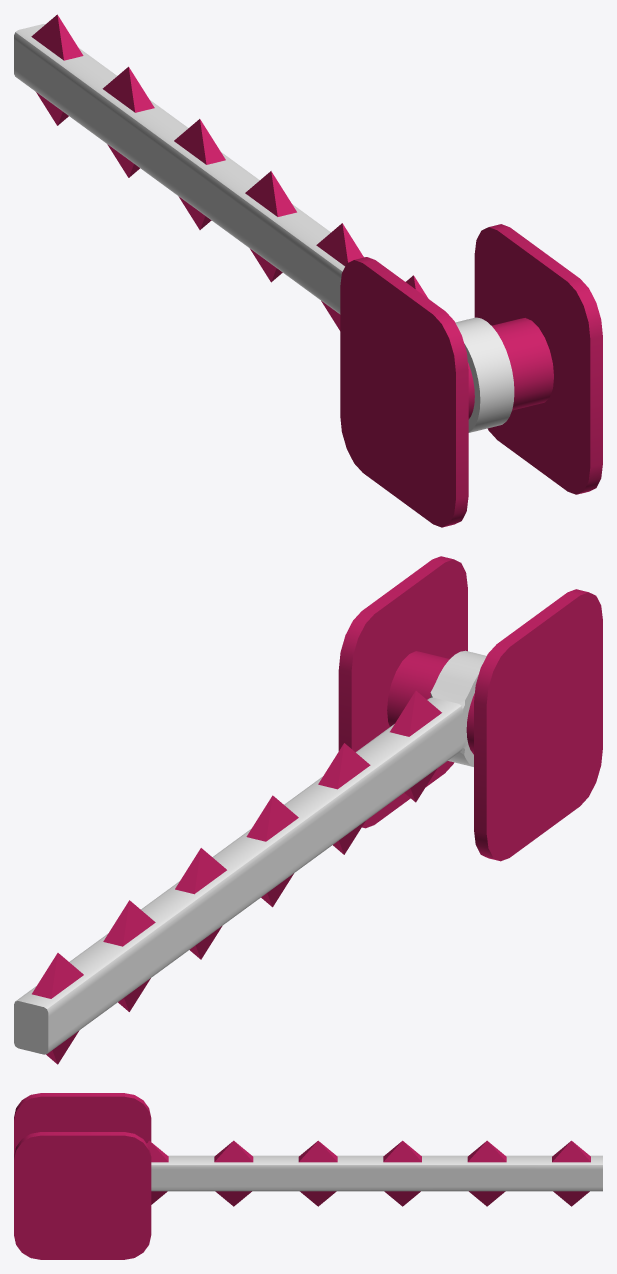
Rendered from Thorn_stick_obstacle.fbx.
3 views of the same model, one above another, from view 1: azimuth 30°, elevation 25°; view 2: azimuth 150°, elevation 25°; view 3: azimuth 270°, elevation 25° (orthographic). The views are drawn at different scales.
Parts seen in each view (by area): view 1: cube, stick, thorn; view 2: cube, stick, thorn; view 3: cube, stick, thorn.
Part boxes in pixels (left/top/right/bottom): cube: left=340, top=224, right=602, bottom=527; stick: left=14, top=24, right=514, bottom=432; thorn: left=31, top=14, right=428, bottom=330; cube: left=338, top=556, right=602, bottom=861; stick: left=14, top=650, right=486, bottom=1054; thorn: left=32, top=691, right=441, bottom=1064; cube: left=14, top=1093, right=151, bottom=1259; stick: left=151, top=1155, right=602, bottom=1191; thorn: left=146, top=1140, right=590, bottom=1206.
Bounding box in the file's own units: 80.06 × 109 × 469.
